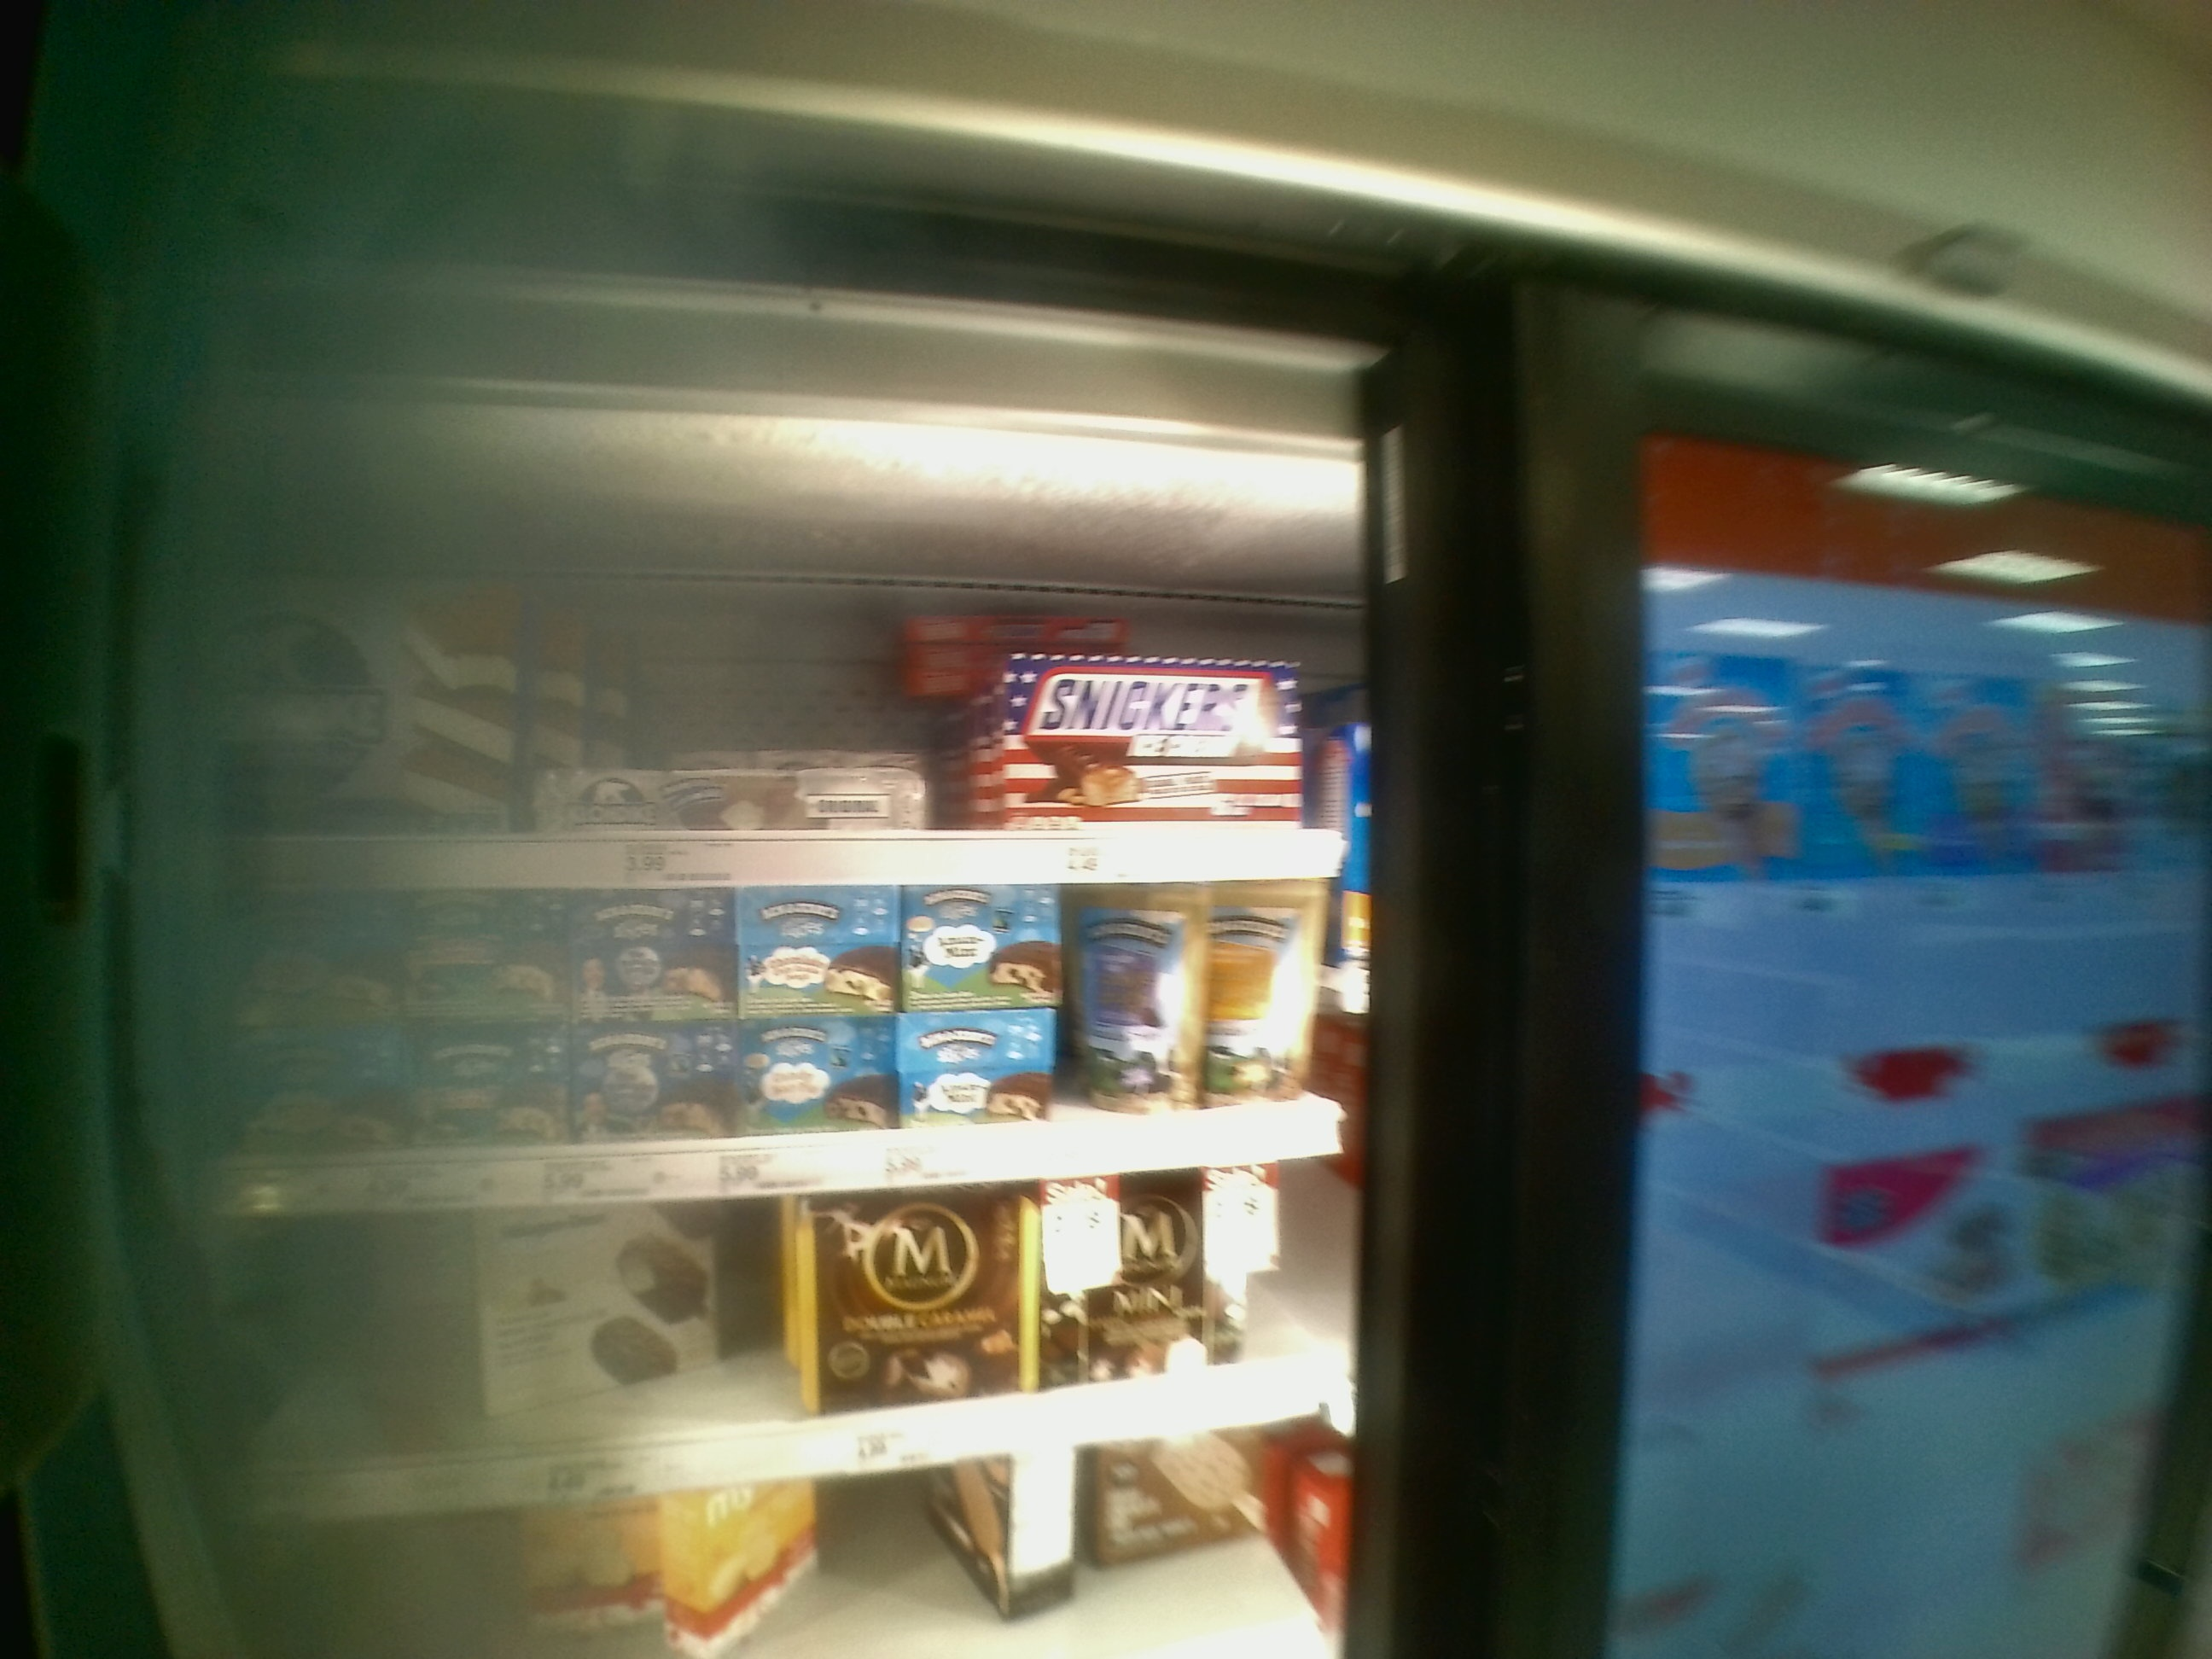ice-cream-shelf: (171, 476, 1385, 873)
